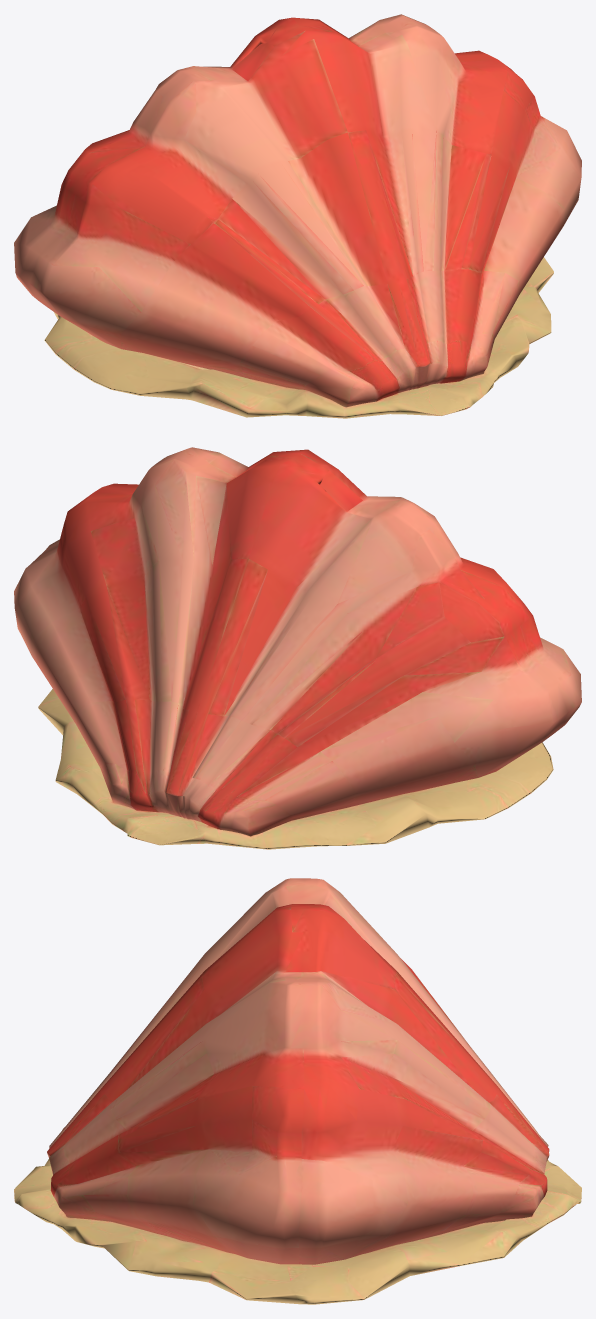
File: shell1.glb
3 renders of one model, top to bottom at view 1: azimuth 30°, elevation 25°; view 2: azimuth 150°, elevation 25°; view 3: azimuth 270°, elevation 25°, orthographic.
Size of the model in its own units: 0.9546 by 0.4795 by 0.8745.
Materials: 1 (1 with a texture image).
